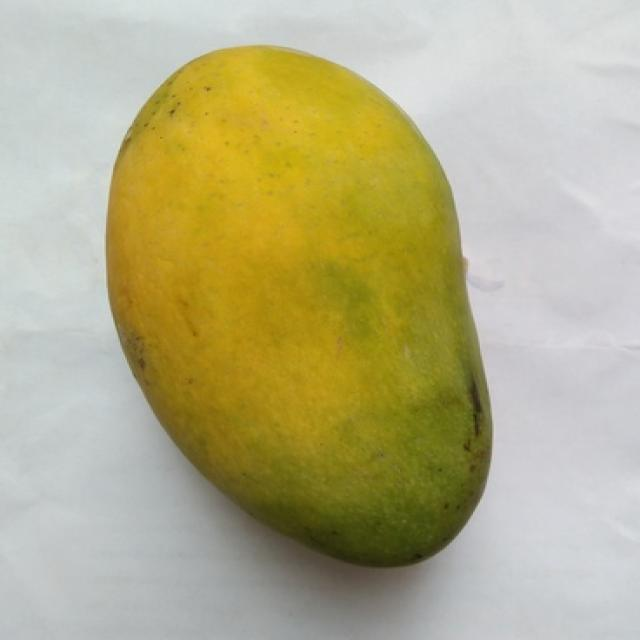Mango: (108, 47, 490, 564)
